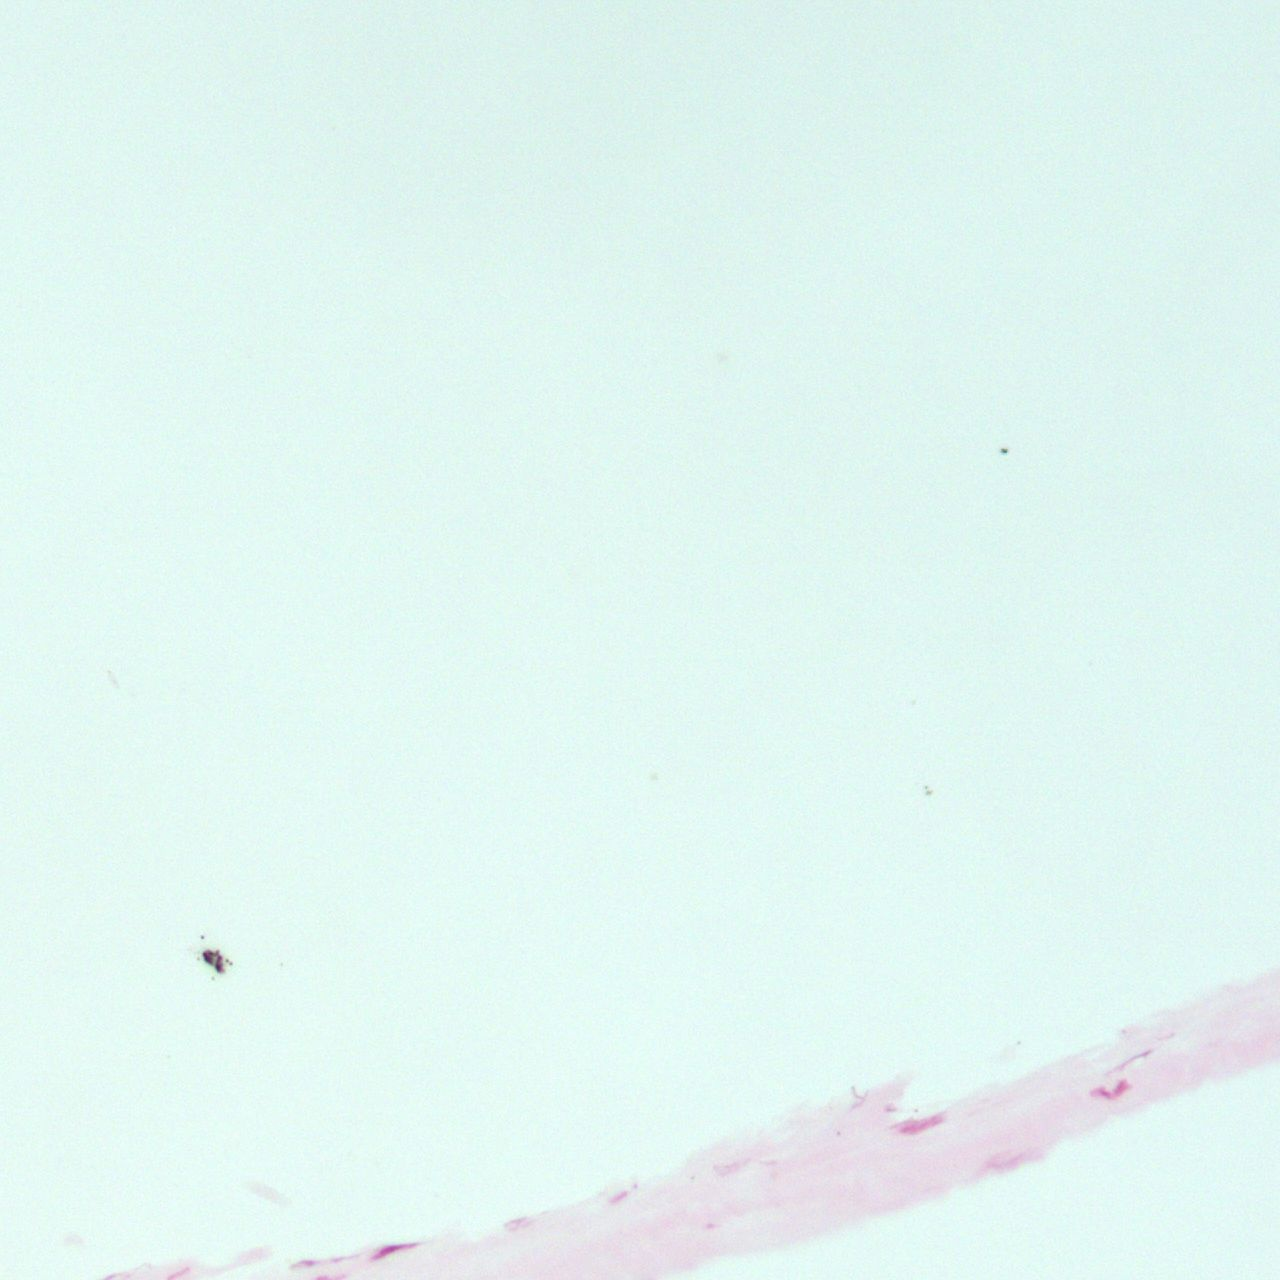dust: (215, 954, 224, 972), (206, 947, 219, 956), (202, 952, 211, 963), (1000, 448, 1008, 454), (926, 790, 933, 796), (922, 785, 930, 789), (195, 956, 201, 961), (210, 976, 215, 981), (200, 934, 204, 939), (225, 958, 229, 963), (229, 961, 232, 966)
nucleus-AC: (892, 1110, 949, 1141), (1087, 1075, 1133, 1107), (1105, 1047, 1154, 1075), (367, 1236, 418, 1262), (330, 1251, 359, 1264), (608, 1189, 629, 1206), (296, 1260, 318, 1266), (703, 1223, 718, 1230), (631, 1182, 638, 1190)
